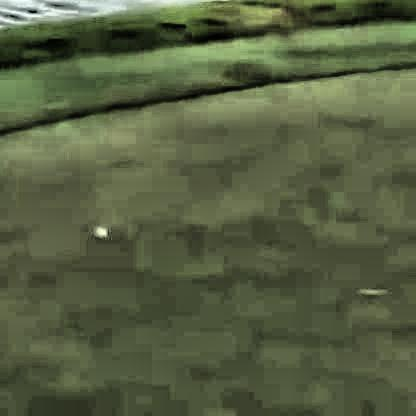golfball: (91, 223, 107, 236)
